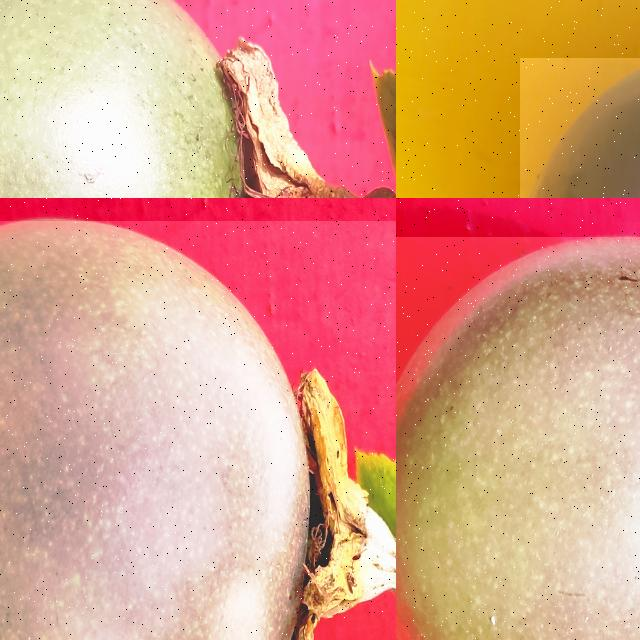Estado-3: (396, 236, 640, 640)
Estado-4: (0, 221, 396, 640)
